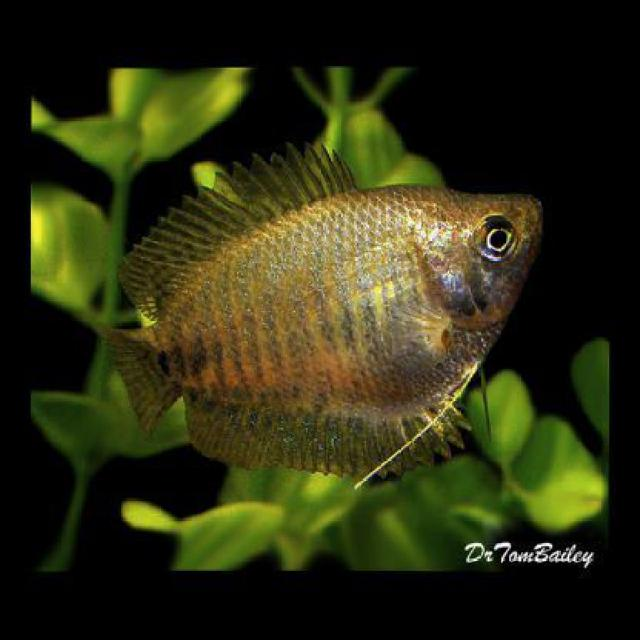Gourami: (102, 137, 553, 494)
